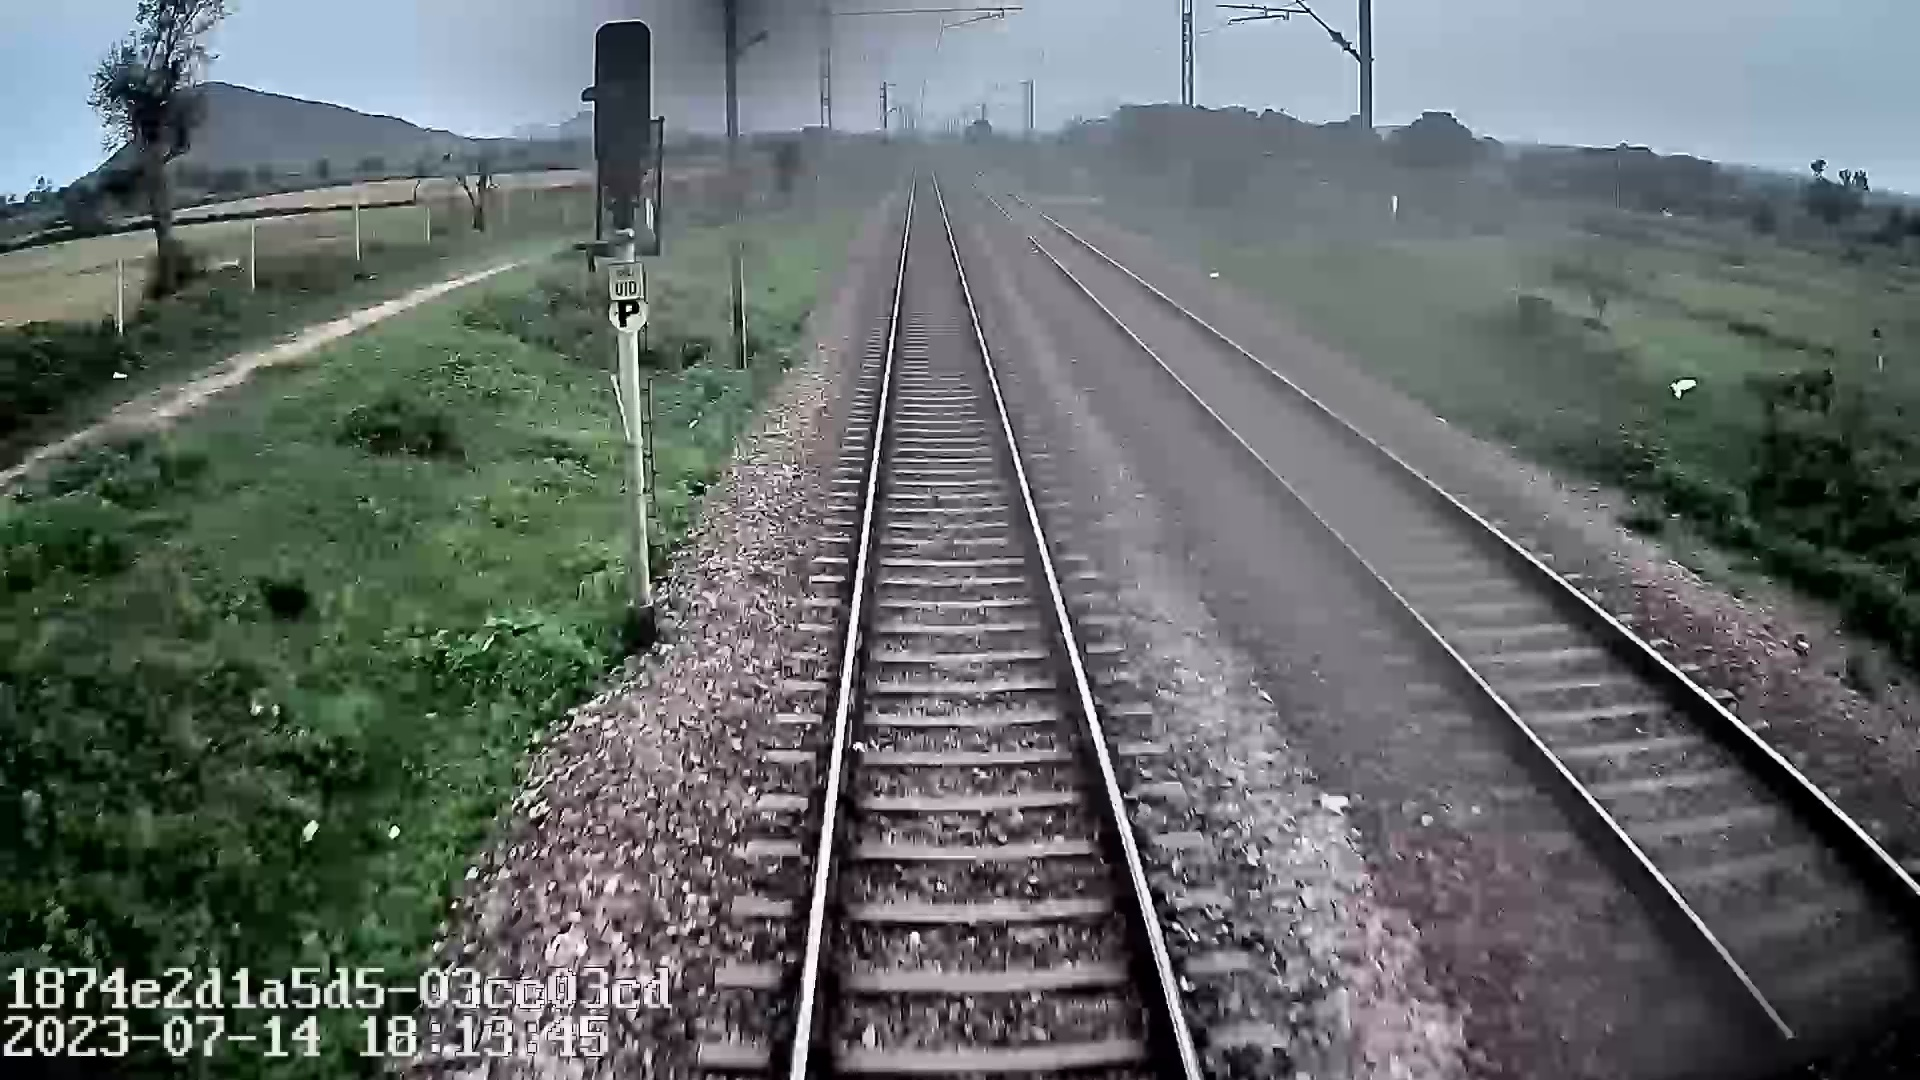track1: (800, 173, 1192, 1068)
track2: (993, 196, 1917, 1029)
